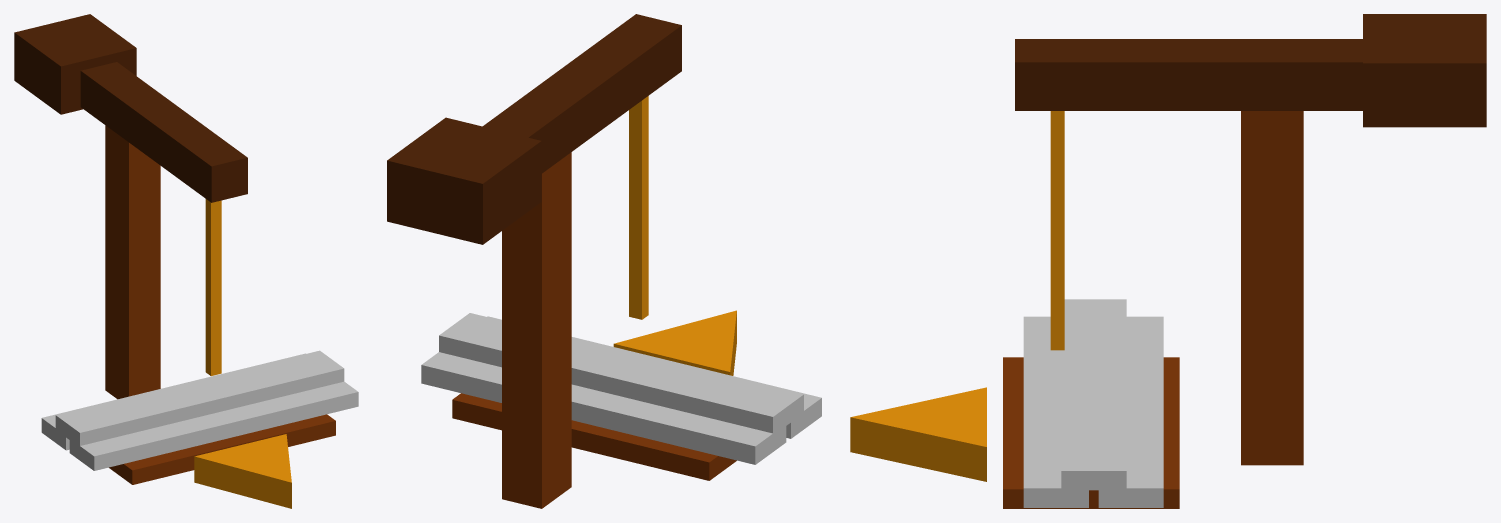
The model's file is Crane Export.fbx.
3 renders of one model, left to right at view 1: azimuth 30°, elevation 25°; view 2: azimuth 150°, elevation 25°; view 3: azimuth 270°, elevation 25°, orthographic. The views are drawn at different scales.
Parts seen in each view (by area): view 1: Cube, Cube_1, Cube_7, Cube_5, Cube_2, Cube_4, Cube_3, Extrude, Cap_1, Cube_6; view 2: Cube, Cube_2, Cube_1, Cube_7, Cube_6, Cube_4, Cube_3, Cap_1, Cube_5, Extrude; view 3: Cube_1, Cube, Cube_2, Cube_7, Cube_6, Cube_5, Cube_4, Extrude, Cap_1, Cube_3.
Part boxes in pixels (<box>): Cube: <box>105,125,160,399</box>; Cube_1: <box>80,62,247,202</box>; Cube_7: <box>55,350,344,446</box>; Cube_5: <box>69,381,358,470</box>; Cube_2: <box>14,14,136,114</box>; Cube_4: <box>109,414,335,484</box>; Cube_3: <box>205,199,221,375</box>; Extrude: <box>194,456,291,508</box>; Cap_1: <box>195,434,291,482</box>; Cube_6: <box>41,353,305,450</box>; Cube: <box>502,152,571,508</box>; Cube_2: <box>387,117,541,244</box>; Cube_1: <box>483,14,681,173</box>; Cube_7: <box>439,313,803,433</box>; Cube_6: <box>421,352,786,464</box>; Cube_4: <box>452,393,736,480</box>; Cube_3: <box>629,96,648,319</box>; Cap_1: <box>614,310,736,371</box>; Cube_5: <box>487,316,821,438</box>; Extrude: <box>613,311,736,375</box>; Cube_1: <box>1015,39,1362,110</box>; Cube: <box>1241,111,1303,465</box>; Cube_2: <box>1363,14,1486,127</box>; Cube_7: <box>1061,299,1126,490</box>; Cube_6: <box>1098,316,1163,507</box>; Cube_5: <box>1023,316,1088,507</box>; Cube_4: <box>1003,357,1179,508</box>; Extrude: <box>850,417,986,481</box>; Cap_1: <box>851,387,986,446</box>; Cube_3: <box>1050,111,1064,350</box>.
Size of the model in its own units: 42.21 by 47.76 by 66.17.
